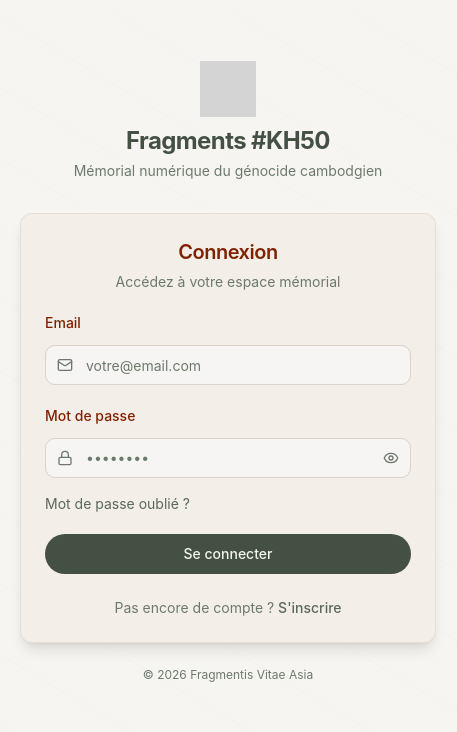
Test case: Auth page › switching to signup mode › shows the 'Créer un compte' title after clicking S'inscrire
Click the button "S'inscrire".
click(310, 608)  # box x1=278 y1=598 x2=342 y2=618
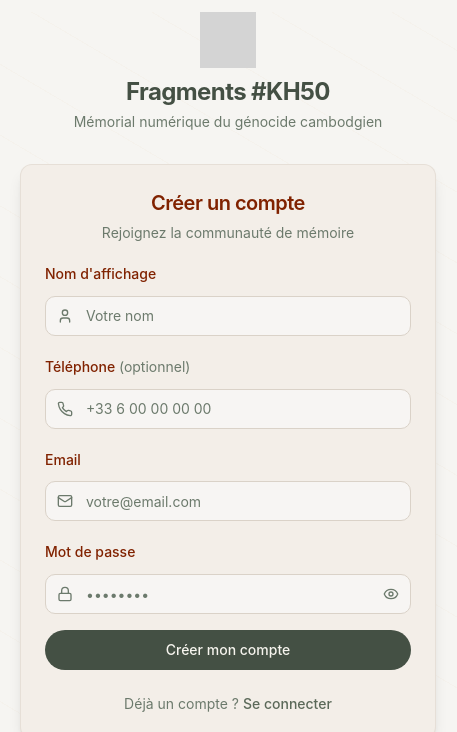
Expected: the text "Créer un compte" is shown, x1=151 y1=191 x2=305 y2=215
